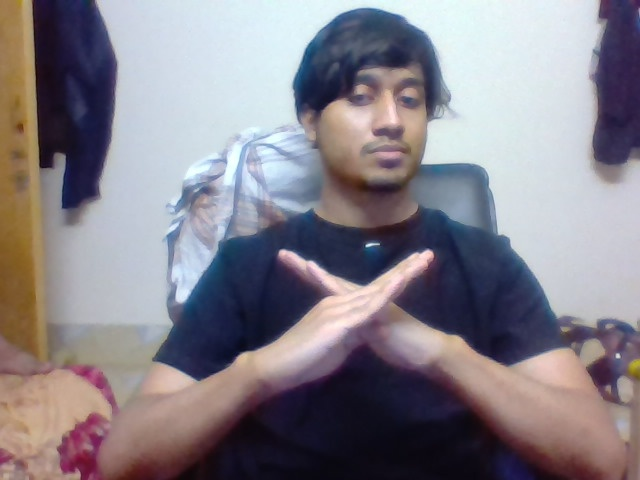X: (253, 237, 480, 378)
